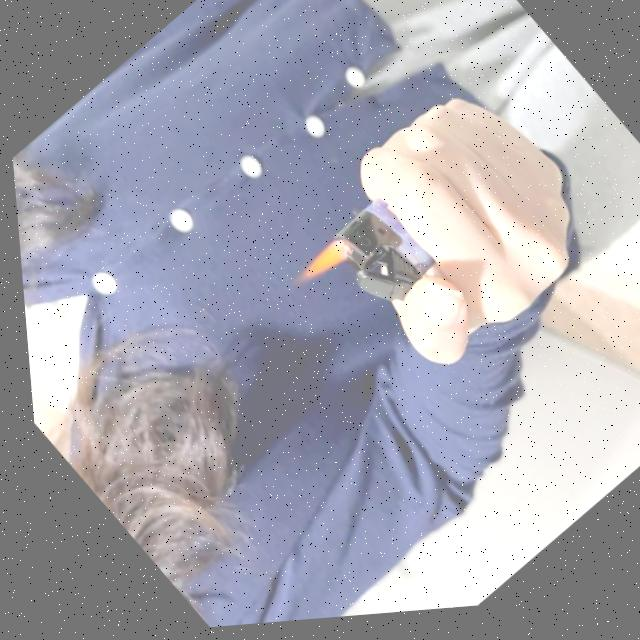Fire: (278, 237, 351, 300)
